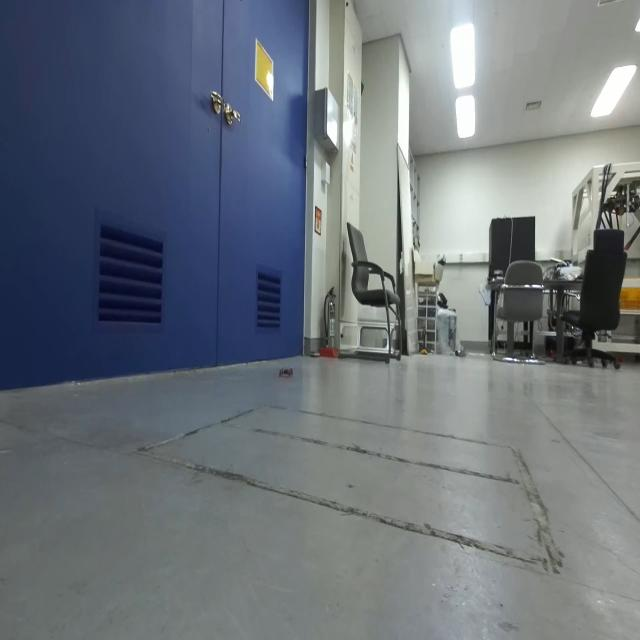crazyflie: (277, 362, 295, 380)
